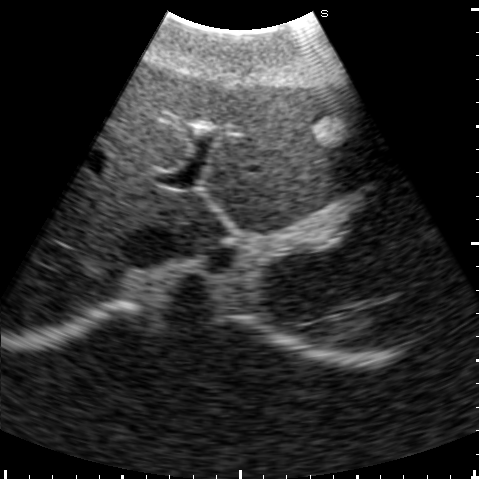IVC: (118, 226, 185, 270)
S1: (169, 194, 232, 254)
S2: (207, 151, 396, 233)
S3: (204, 78, 388, 199)
Tumor: (312, 117, 349, 148)
